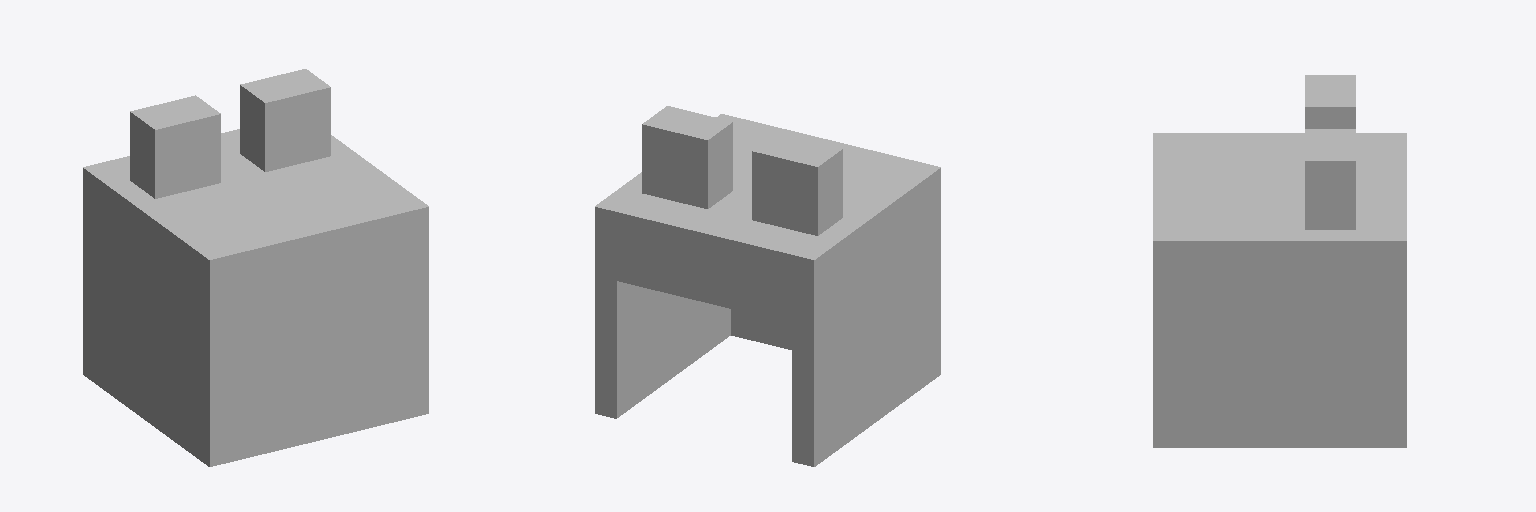
File: frog_hat.obj
3 views of the same model, side by side, from view 1: azimuth 30°, elevation 25°; view 2: azimuth 150°, elevation 25°; view 3: azimuth 270°, elevation 25° (orthographic).
Parts seen in each view (by area): view 1: head; view 2: head; view 3: head.
Part boxes in pixels (x1,y1,x2,y2): head: (83,69,428,466); head: (595,106,940,466); head: (1153,75,1406,447).
Size of the model in its own units: 0.625 by 0.75 by 0.625.